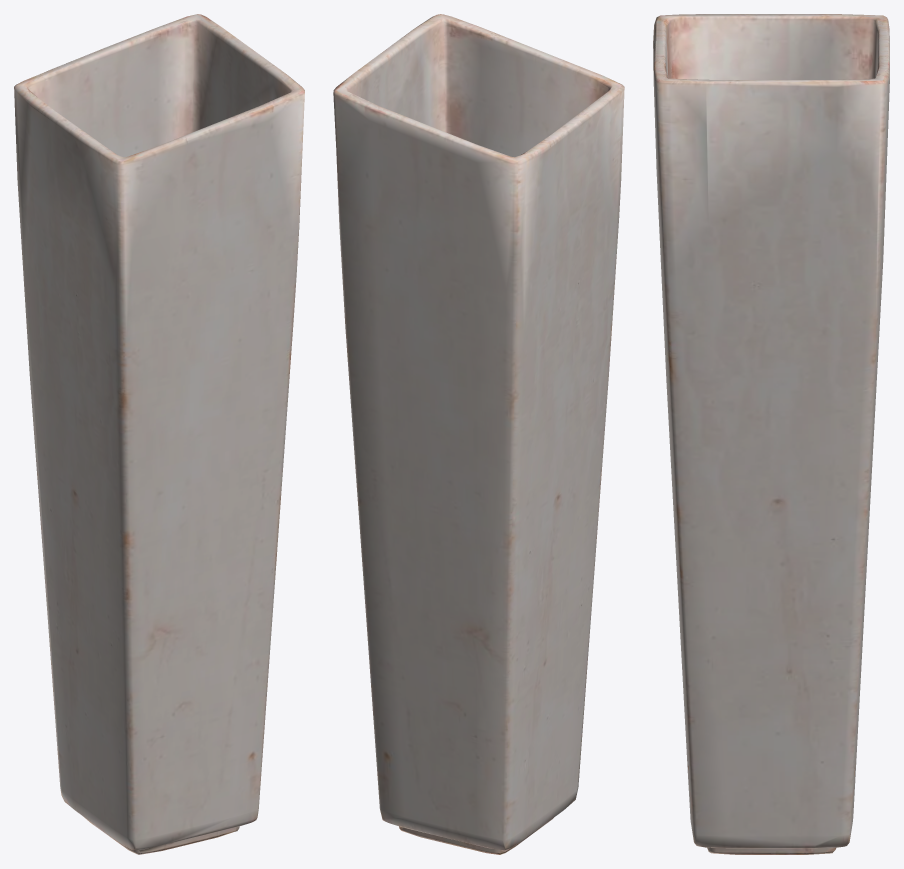
The model's file is ceramic_vase_03.glb.
The picture shows the model from 3 angles, left to right: view 1: azimuth 30°, elevation 25°; view 2: azimuth 150°, elevation 25°; view 3: azimuth 270°, elevation 25°; orthographic projection. The views are drawn at different scales.
Parts seen in each view (by area): view 1: ceramic_vase_03; view 2: ceramic_vase_03; view 3: ceramic_vase_03.
Boxes of the visible parts, x1,y1,x2,y2 form: ceramic_vase_03: (14,14,304,854); ceramic_vase_03: (333,14,624,854); ceramic_vase_03: (653,14,889,854).
Size of the model in its own units: 0.1119 by 0.4143 by 0.1118.
Materials: 1 (1 with a texture image).
